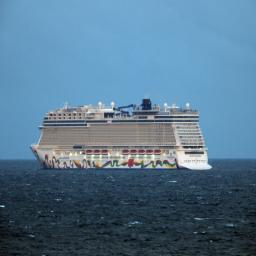cruises: (29, 97, 215, 175)
